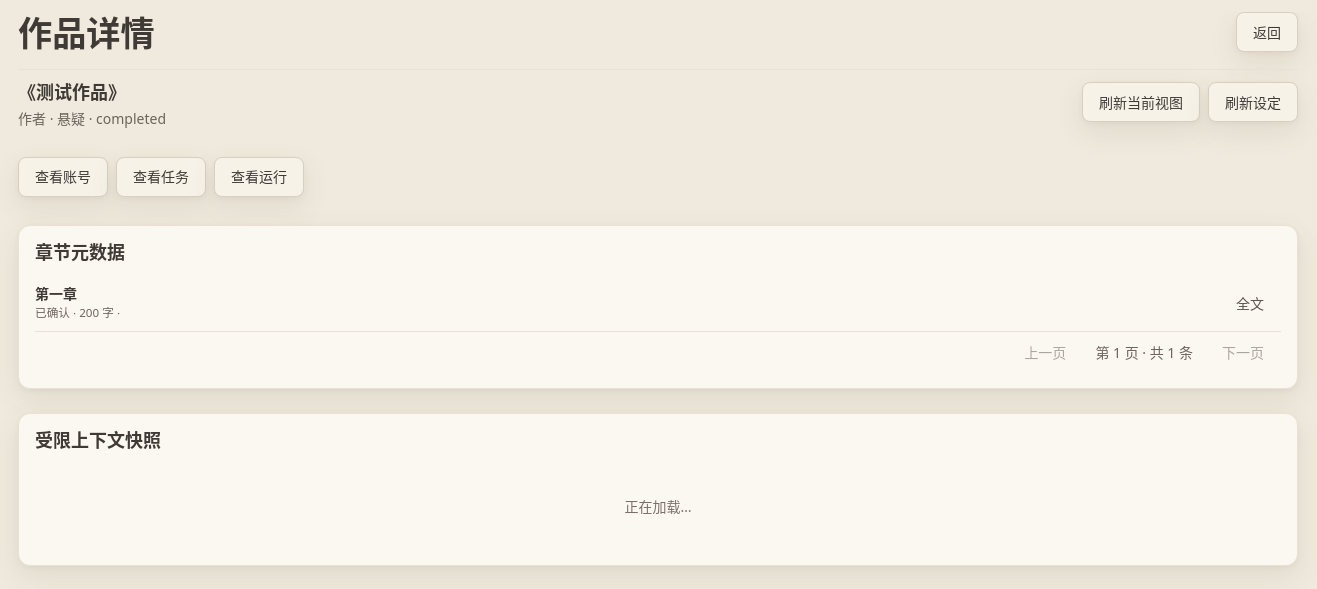
Scenario: opens chapter text in its own route with a return to the owning work
Click the button with aria-label "查看第一章全文".
click(1250, 303)  # box [1219,283,1281,323]
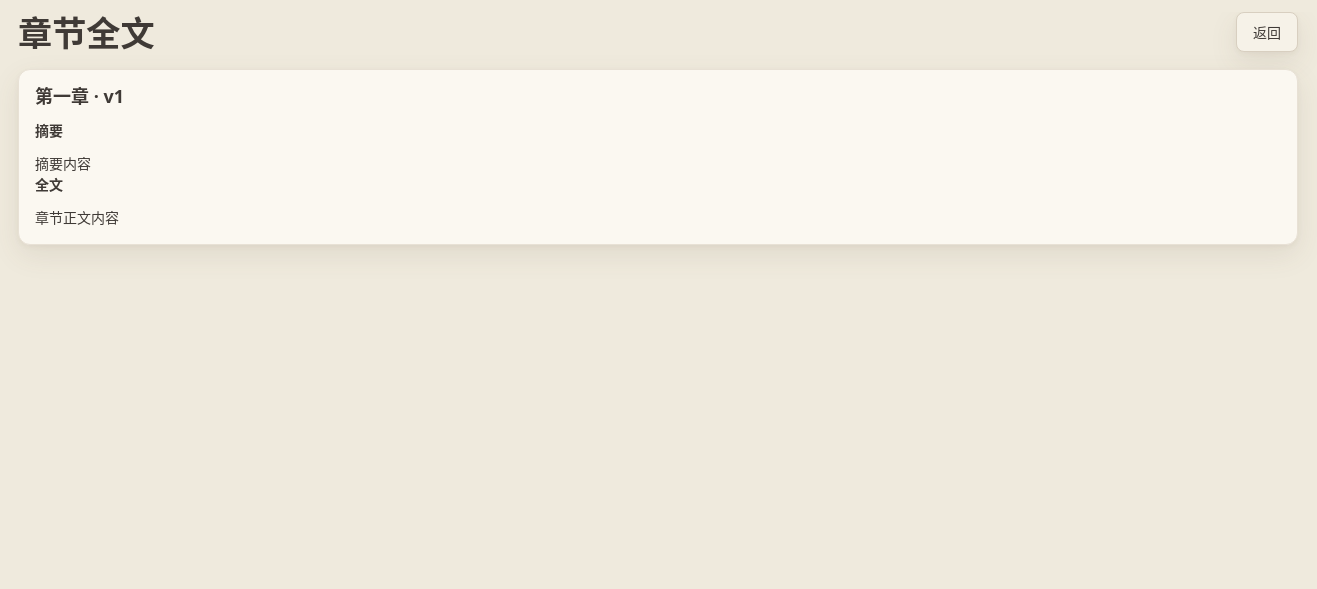
Now the text "章节正文内容" is shown, box [35,208,119,227]
Now the heading "受限上下文快照" is gone
